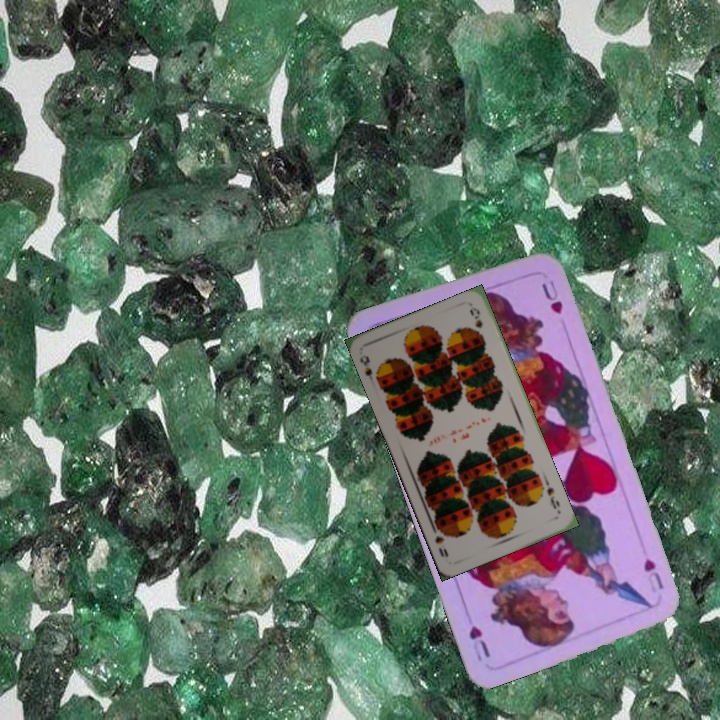HU: (639, 554, 666, 596)
S9: (356, 352, 384, 386), (543, 483, 563, 512)
